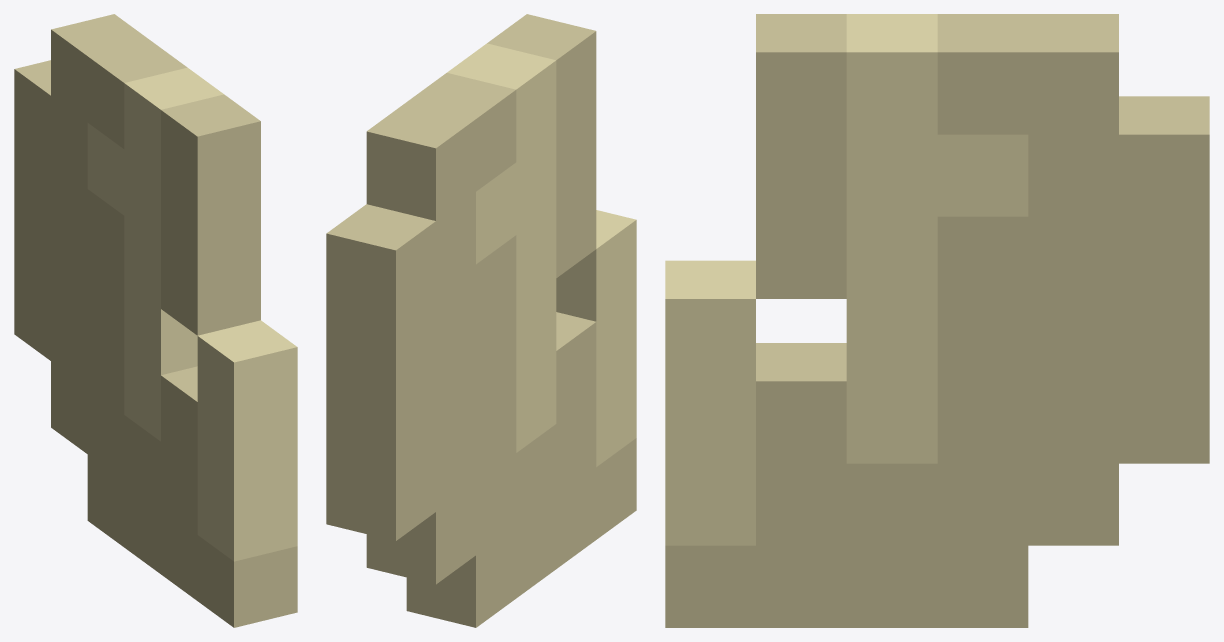
Rendered from Medieval Assets-127-Decoration - Desert - Tablet - Variant3.obj.
3 renders of one model, left to right at view 1: azimuth 30°, elevation 25°; view 2: azimuth 150°, elevation 25°; view 3: azimuth 270°, elevation 25°, orthographic. The views are drawn at different scales.
Visible parts, largest first — view 1: Decoration - Desert - Tablet - Variant3; view 2: Decoration - Desert - Tablet - Variant3; view 3: Decoration - Desert - Tablet - Variant3.
Boxes of the visible parts, x1,y1,x2,y2 form: Decoration - Desert - Tablet - Variant3: (14,14,297,627); Decoration - Desert - Tablet - Variant3: (326,14,636,627); Decoration - Desert - Tablet - Variant3: (665,14,1209,627).
Bounding box in the file's own units: 0.1 × 0.7 × 0.6.
1 material, 1 textured.
